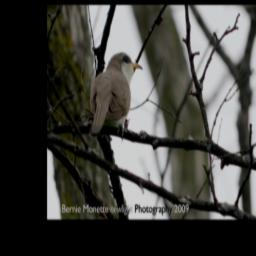Cuckoo: (88, 51, 142, 139)
